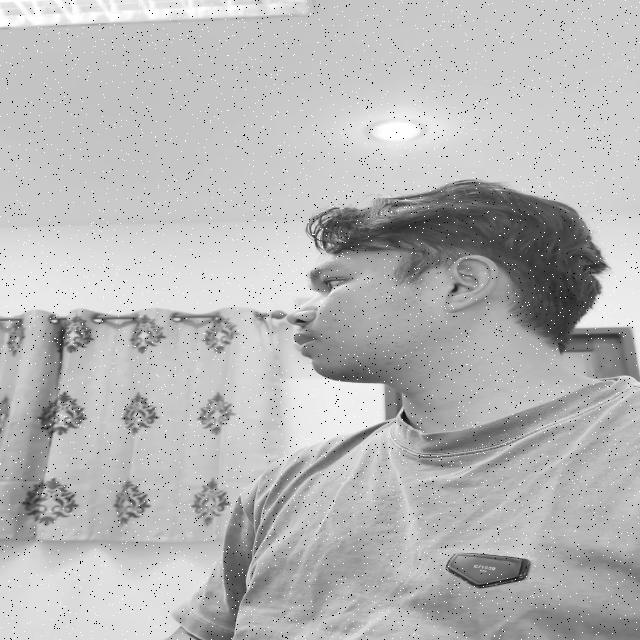ear: (445, 255, 500, 312)
